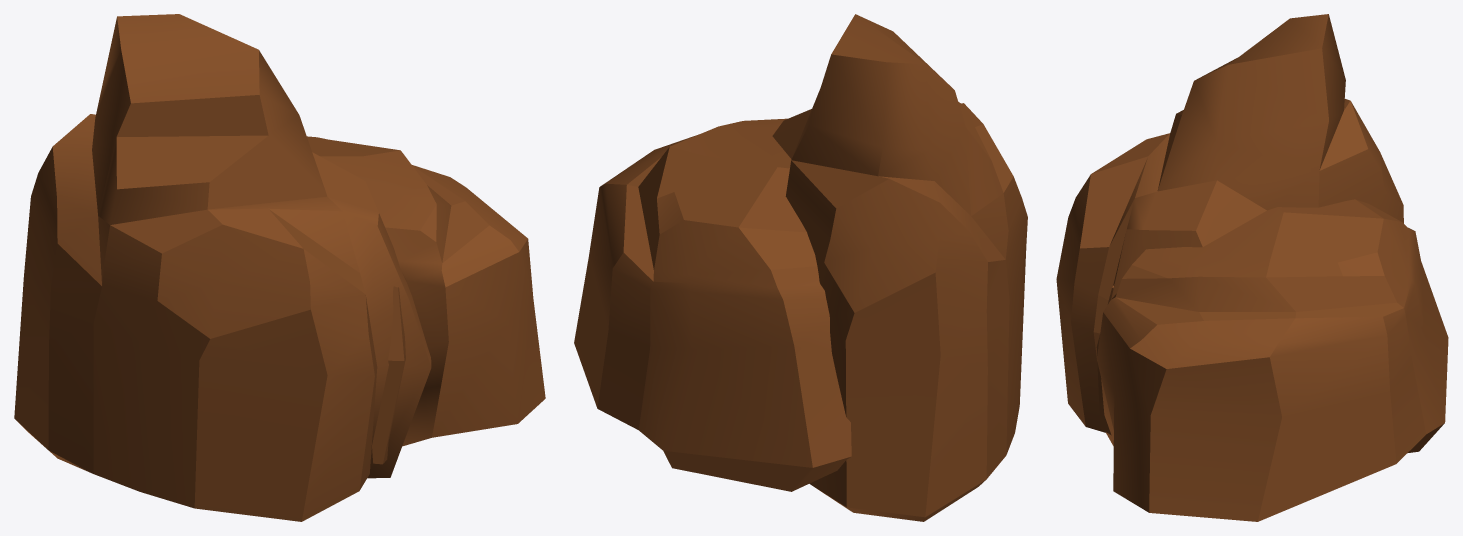
File: rock4_lev2.glb
3 views of the same model, side by side, from view 1: azimuth 30°, elevation 25°; view 2: azimuth 150°, elevation 25°; view 3: azimuth 270°, elevation 25° (orthographic). The views are drawn at different scales.
Parts seen in each view (by area): view 1: Rock_Large_2.003; view 2: Rock_Large_2.003; view 3: Rock_Large_2.003.
Boxes of the visible parts, bbox=[...] form: Rock_Large_2.003: bbox=[14, 14, 545, 521]; Rock_Large_2.003: bbox=[574, 14, 1027, 521]; Rock_Large_2.003: bbox=[1056, 14, 1448, 521].
Size of the model in its own units: 30.16 by 28.27 by 26.16.
1 material, 1 textured.
